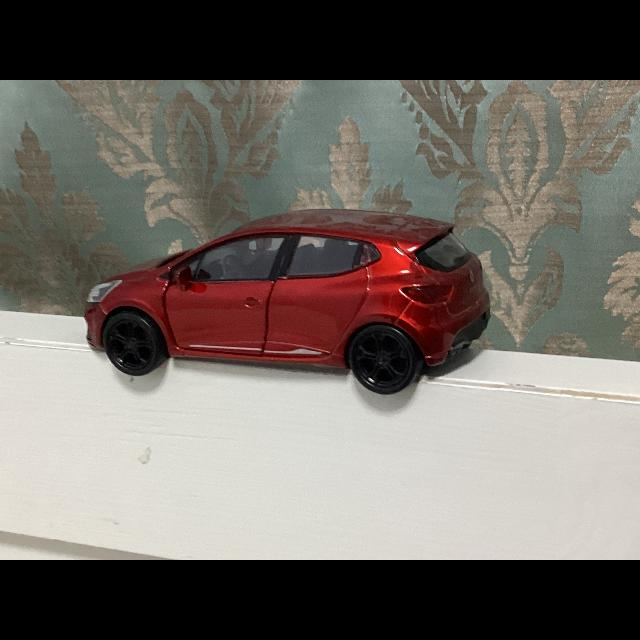Dogru_Jant: (355, 332, 409, 384), (107, 319, 151, 366)
